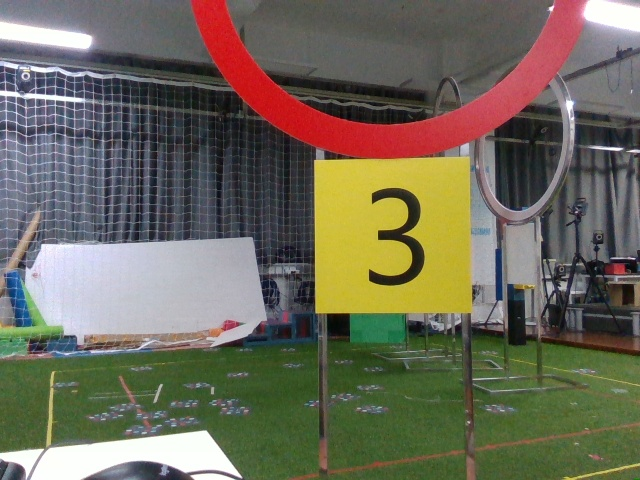target: (310, 162, 472, 312)
